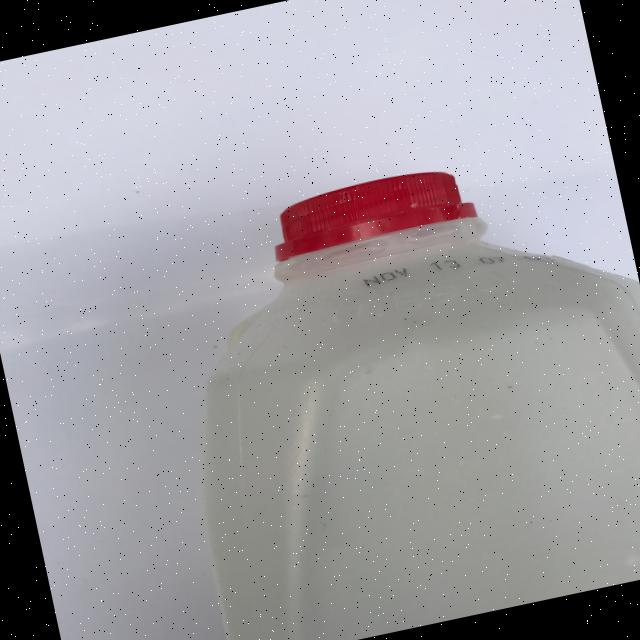plastic: (137, 129, 640, 640)
